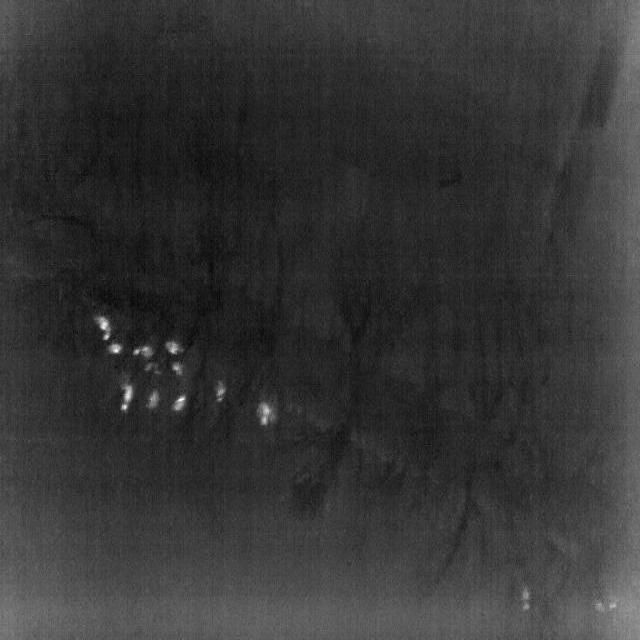deer: (257, 402, 276, 426), (95, 316, 112, 341), (121, 383, 134, 411), (145, 389, 160, 410), (165, 340, 185, 354), (144, 361, 164, 375), (170, 395, 187, 411), (132, 346, 155, 357), (216, 380, 226, 403), (106, 343, 123, 354), (172, 362, 184, 374)
